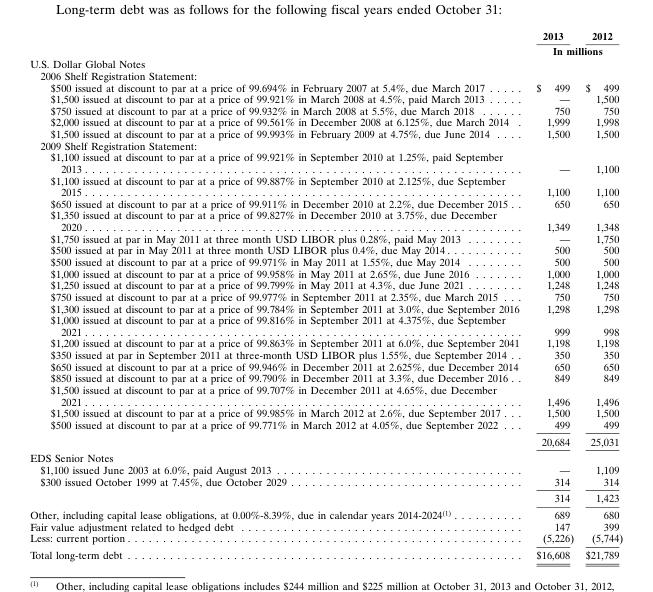table: (29, 29, 622, 560)
table column: (29, 29, 527, 560), (527, 29, 578, 560), (578, 29, 622, 560)
table column header: (29, 29, 622, 57)
table projected row header: (29, 449, 622, 463), (29, 57, 622, 69), (29, 69, 622, 81), (29, 139, 622, 150)
table row: (29, 150, 622, 174), (29, 174, 622, 197), (29, 209, 622, 232), (29, 313, 622, 336), (29, 383, 622, 406), (29, 432, 622, 449), (29, 489, 622, 506), (29, 42, 622, 57), (29, 418, 622, 432), (29, 449, 622, 463), (29, 475, 622, 489), (29, 506, 622, 520), (29, 532, 622, 546), (29, 546, 622, 560), (29, 29, 622, 42), (29, 57, 622, 69), (29, 69, 622, 81), (29, 92, 622, 104), (29, 115, 622, 127), (29, 127, 622, 139), (29, 197, 622, 209), (29, 243, 622, 255), (29, 255, 622, 267), (29, 278, 622, 290), (29, 290, 622, 302), (29, 336, 622, 348), (29, 348, 622, 360), (29, 371, 622, 383), (29, 406, 622, 418), (29, 463, 622, 475), (29, 520, 622, 532), (29, 81, 622, 92), (29, 104, 622, 115), (29, 139, 622, 150), (29, 232, 622, 243), (29, 267, 622, 278), (29, 302, 622, 313), (29, 360, 622, 371)
table spanning cell: (527, 42, 622, 57)
